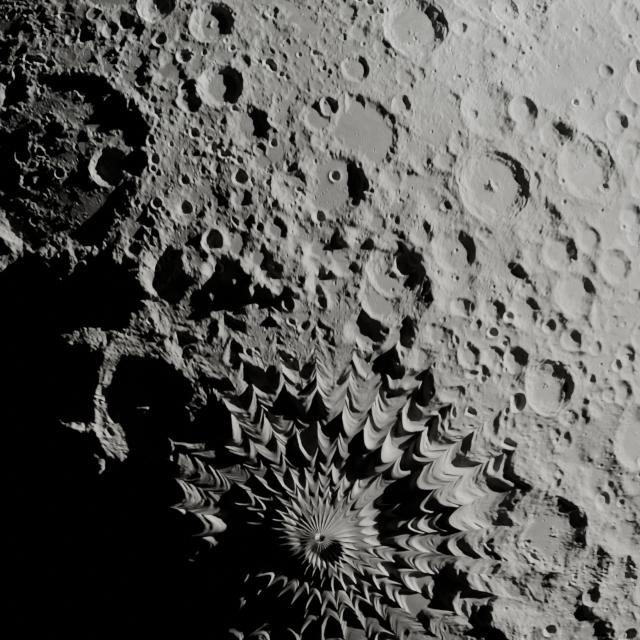crater: (305, 156, 357, 219), (381, 5, 440, 58), (425, 227, 473, 284), (196, 65, 243, 108), (88, 144, 132, 188), (364, 256, 404, 302), (594, 247, 632, 290), (149, 58, 187, 100), (187, 5, 229, 42), (135, 254, 168, 301), (613, 133, 640, 187), (505, 94, 539, 131), (302, 102, 334, 134), (391, 247, 421, 281), (261, 132, 289, 166), (617, 205, 640, 245), (612, 345, 639, 379), (492, 1, 522, 27), (320, 164, 350, 189), (135, 1, 169, 23), (622, 63, 640, 104), (604, 108, 630, 135), (201, 226, 227, 252), (508, 389, 530, 415), (595, 491, 616, 515), (230, 166, 251, 188), (390, 94, 411, 116), (318, 96, 338, 118), (150, 31, 169, 48), (174, 48, 194, 64), (187, 124, 203, 141), (598, 63, 614, 78), (487, 324, 502, 339), (310, 48, 326, 62), (286, 316, 300, 328), (264, 8, 278, 20), (268, 136, 279, 149), (278, 70, 288, 80)
rock: (12, 144, 33, 166), (352, 55, 370, 80), (310, 208, 328, 226), (627, 57, 640, 79), (178, 173, 193, 189), (264, 58, 278, 72), (180, 200, 194, 214), (53, 167, 67, 180), (616, 498, 627, 508)
